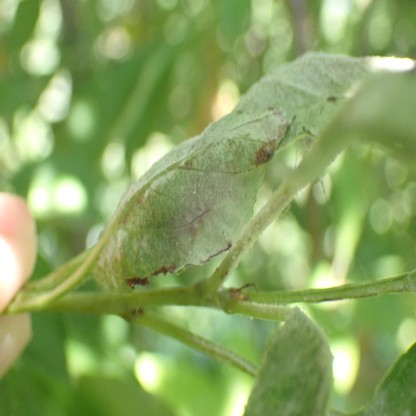powdery_mildew: (95, 113, 296, 290), (242, 308, 336, 416), (360, 392, 389, 416)
